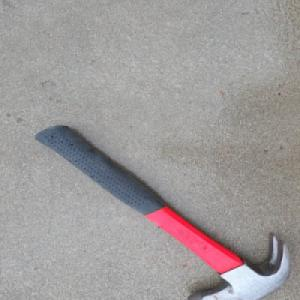Hammer: (33, 123, 291, 300)
